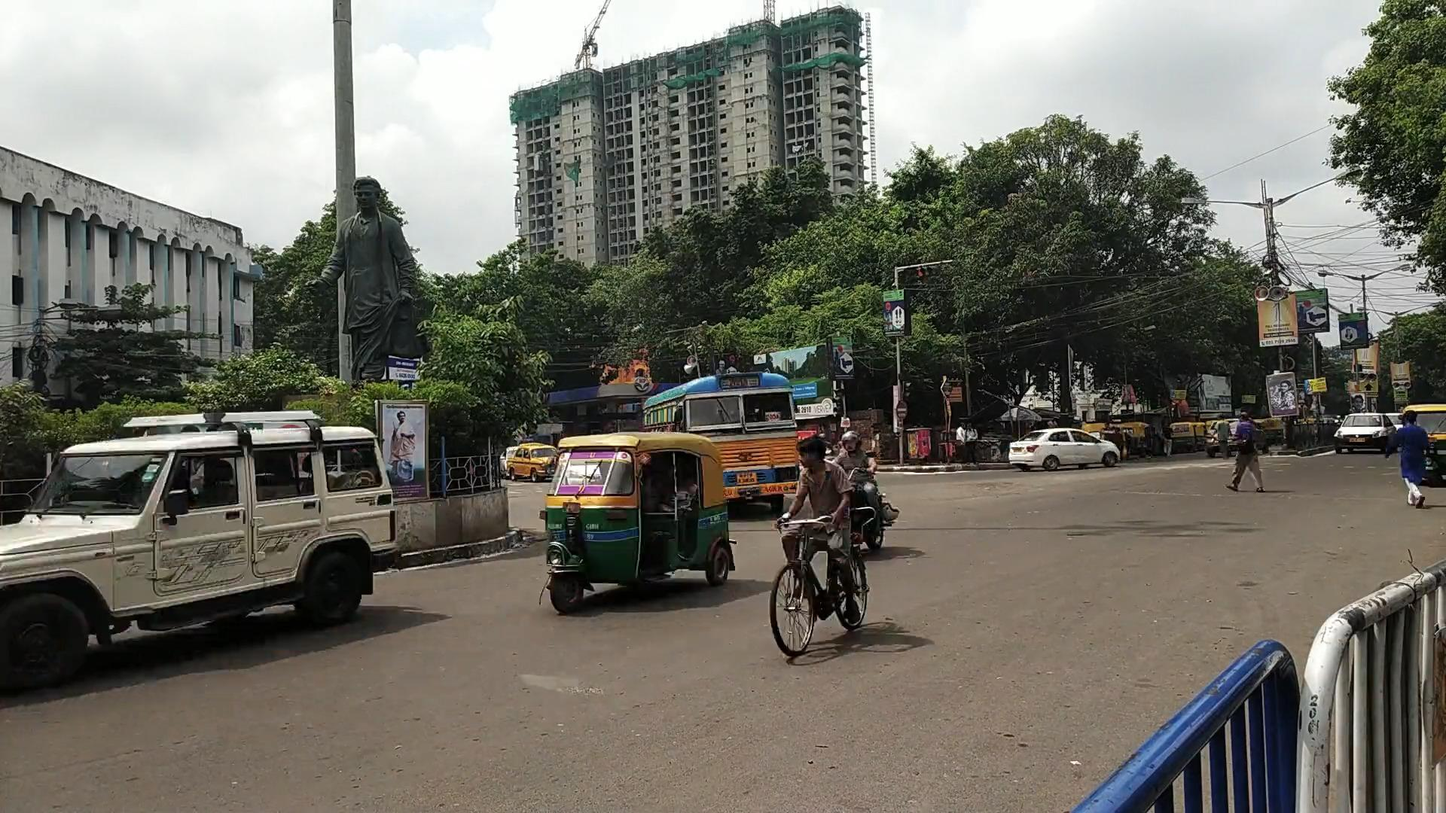bicyclist: (769, 436, 869, 656)
